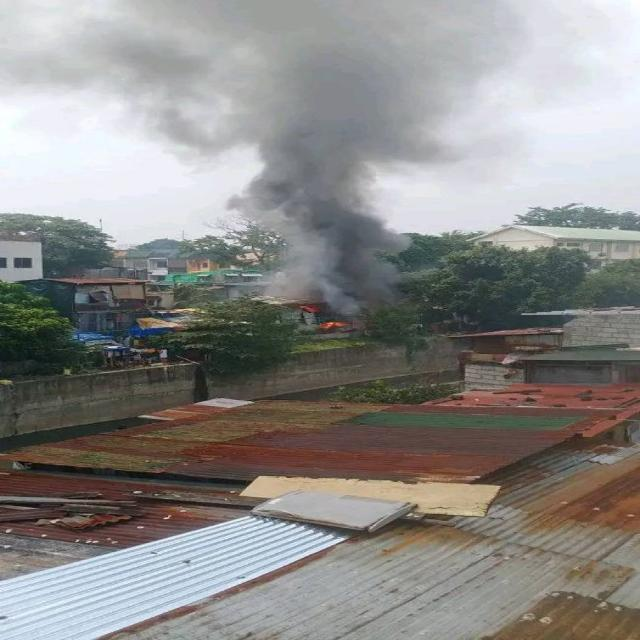Smoke: (46, 0, 562, 170), (241, 164, 448, 314)
